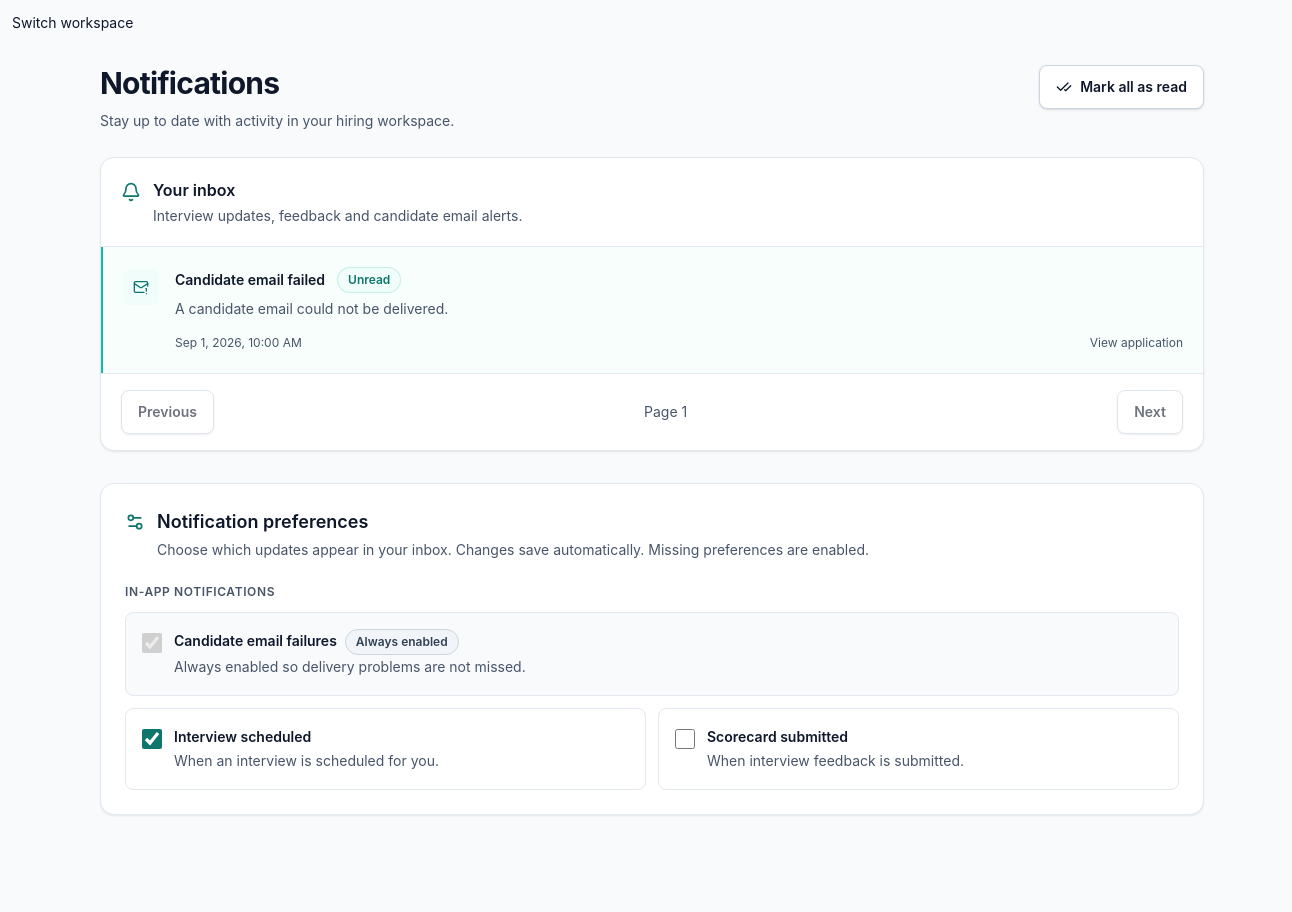
notifications › does not carry local preference edits into another workspace
Click the checkbox labelled "Interview scheduled When an interview is scheduled for you.". click: (152, 738)
box: [142, 728, 162, 748]
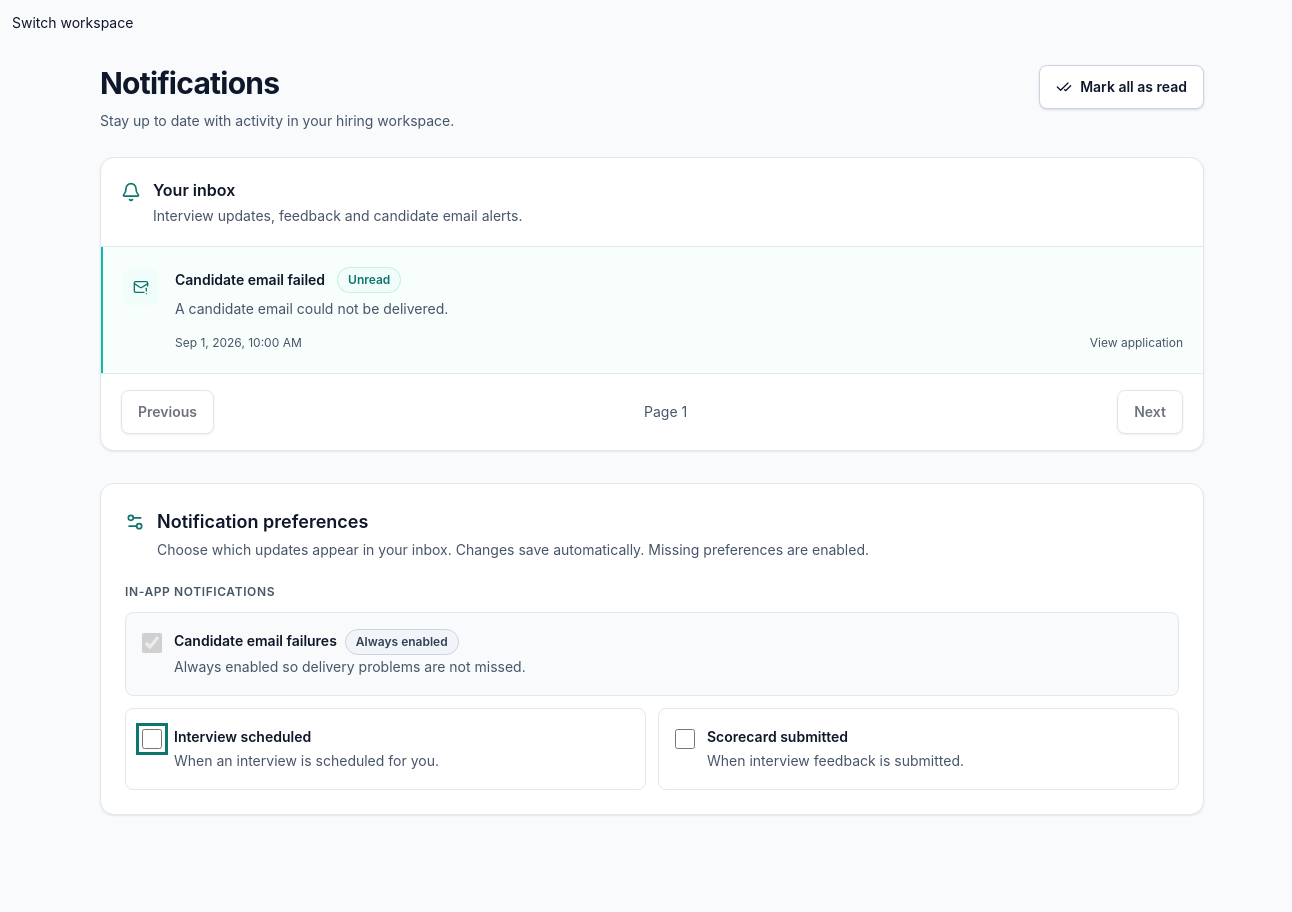
Result: the checkbox labelled "Interview scheduled When an interview is scheduled for you." is not checked at [142, 728, 162, 748]
Click the link "Switch workspace". click: (73, 22)
box: [12, 14, 133, 31]
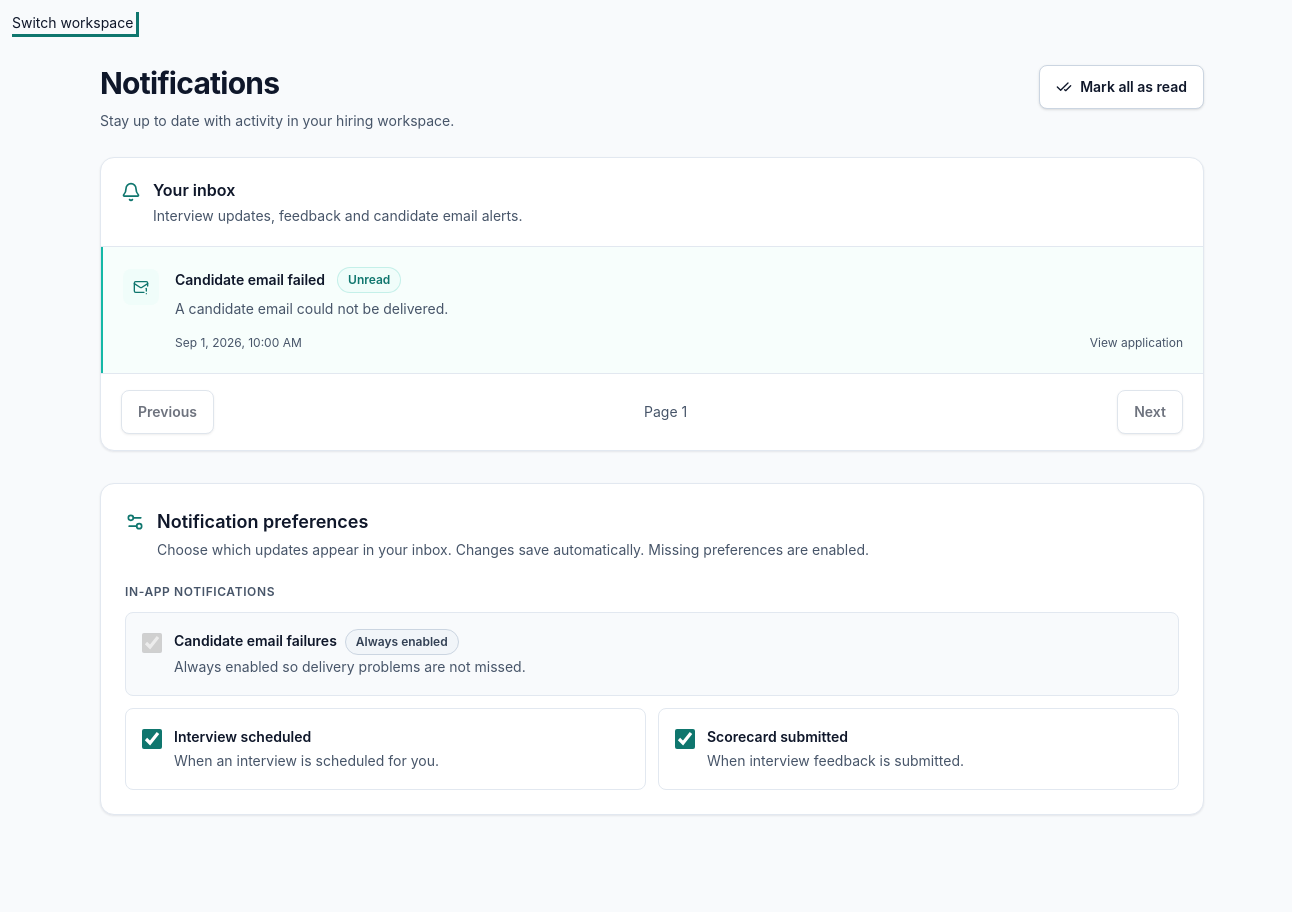
Result: the checkbox labelled "Interview scheduled When an interview is scheduled for you." is checked at [142, 728, 162, 748]
